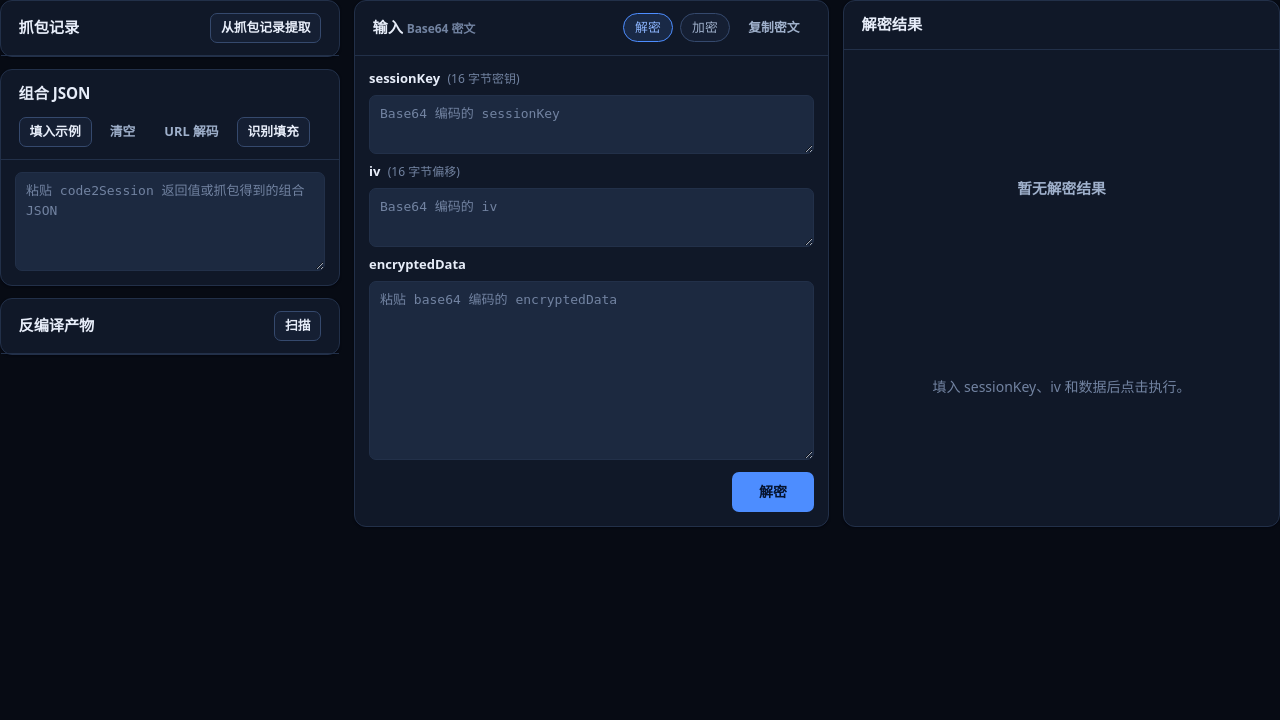
SessionKeyView › switches to encrypt mode
The image size is (1280, 720).
Click the tab with test id "mode-encrypt": (705, 28) [680,14,730,42]
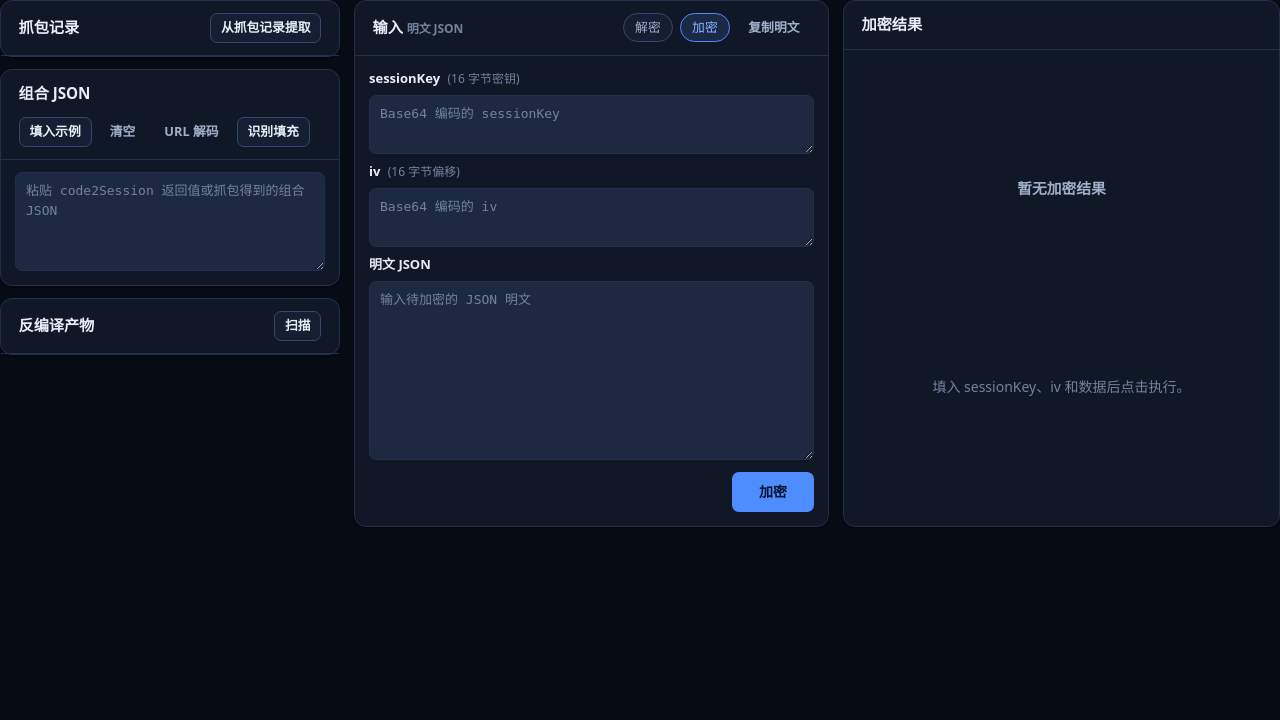
Now the text "明文 JSON" is shown, box [407,20,463,37]
